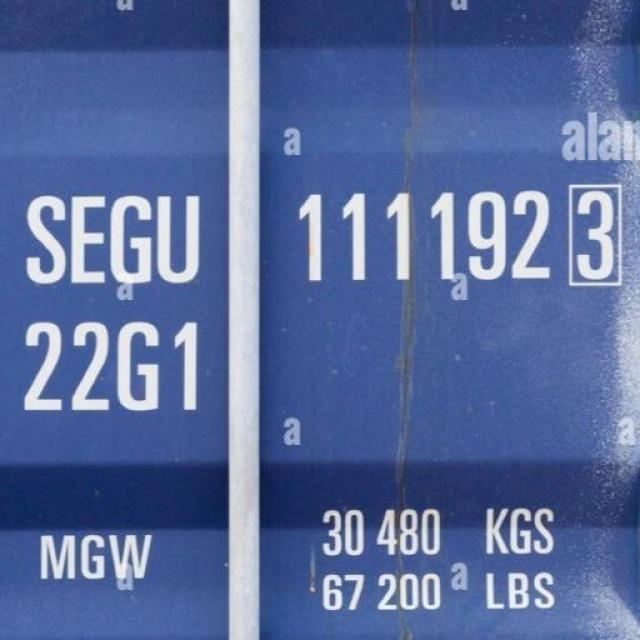ISO: (8, 308, 212, 424)
container_number: (9, 186, 624, 299)
